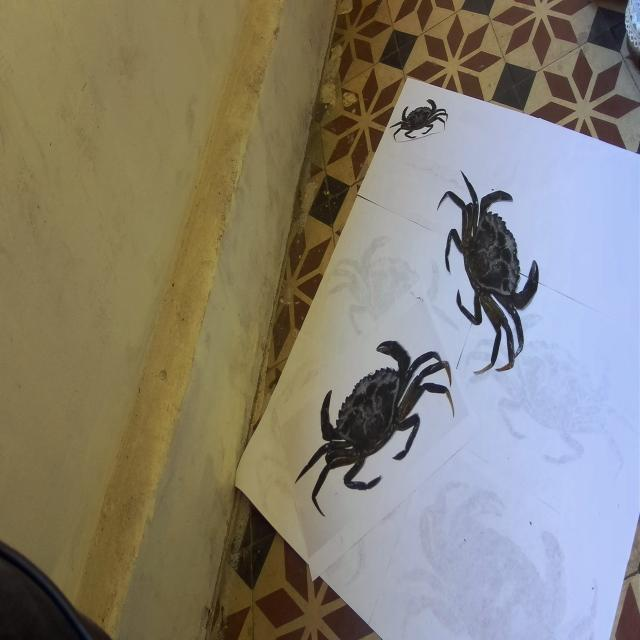European_Green_Crab: (280, 299, 462, 543), (428, 134, 555, 395), (388, 95, 449, 144)
